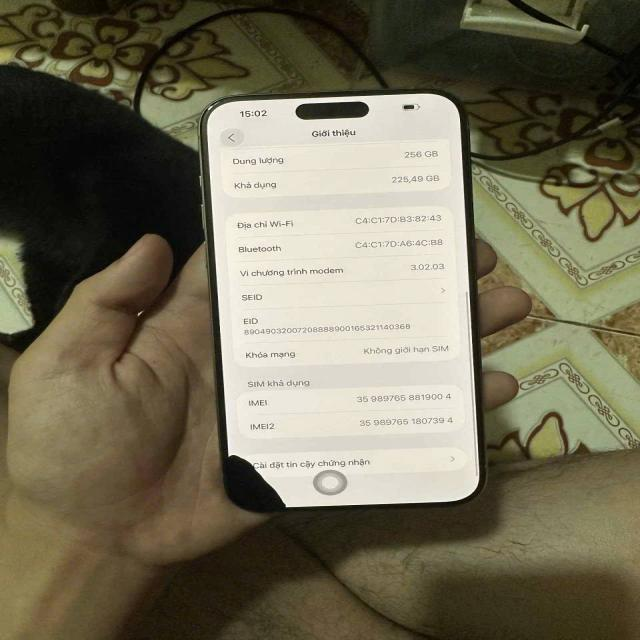gen_15: (193, 89, 488, 523)
